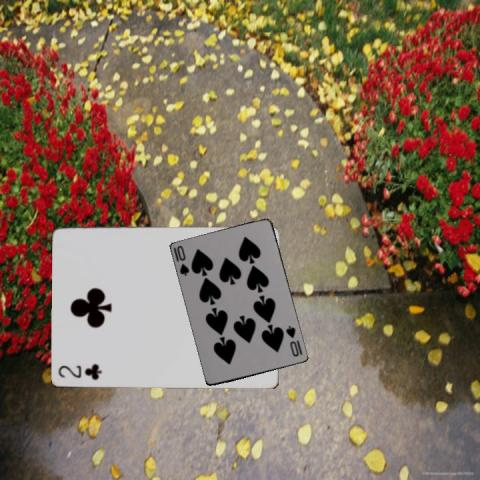10s: (283, 323, 301, 358), (174, 243, 191, 277)
2c: (55, 361, 104, 381)
